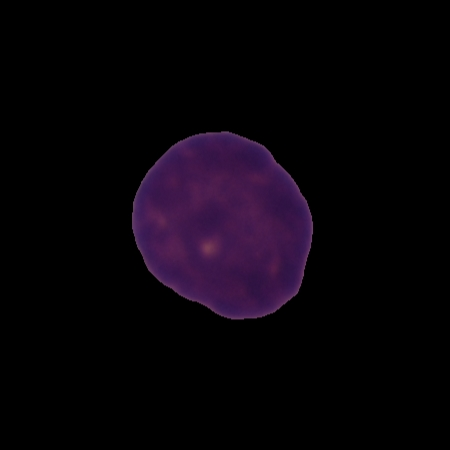HEM: (128, 126, 316, 322)
